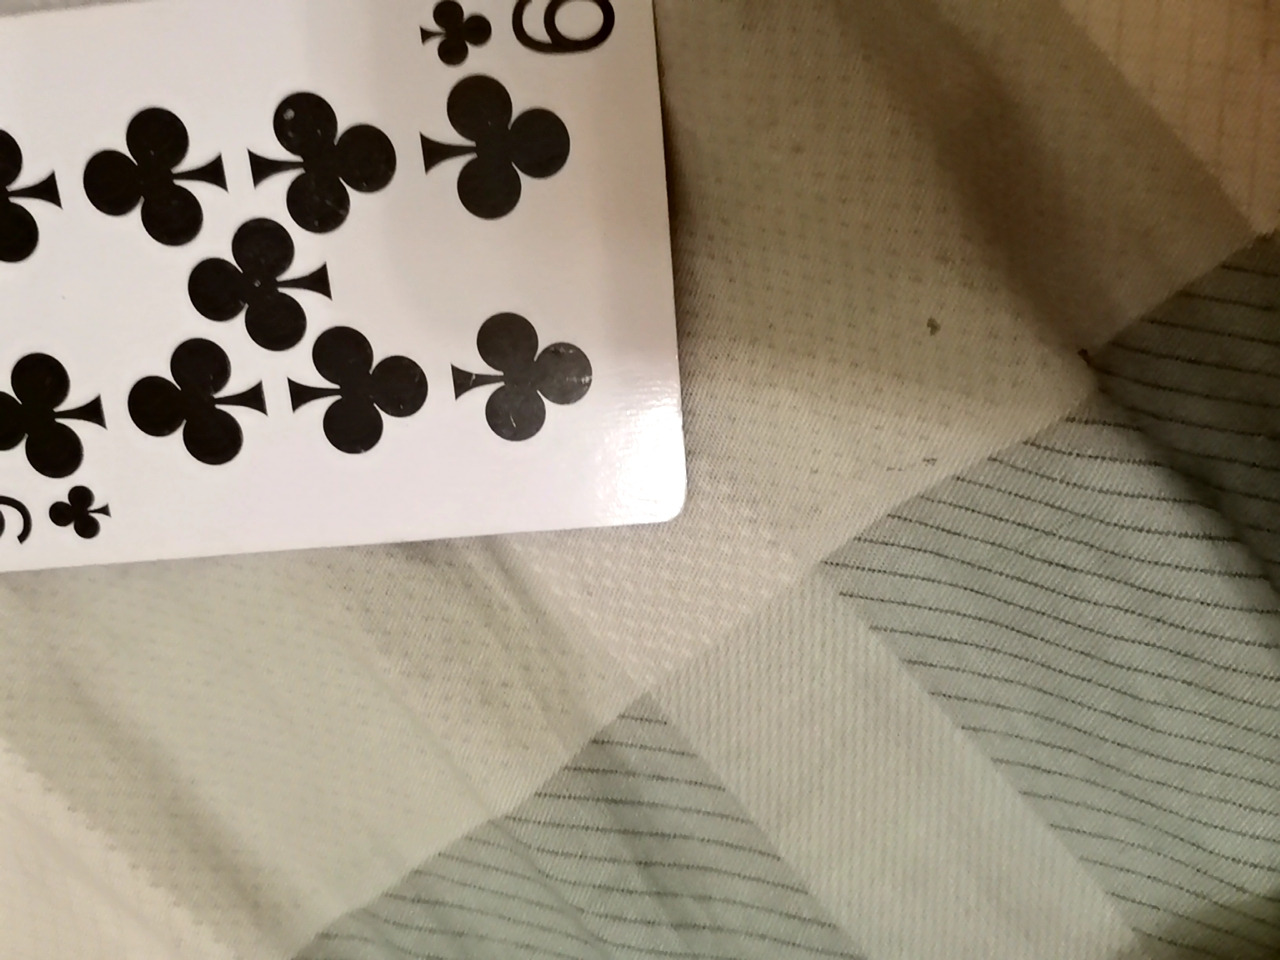mh 9: (9, 3, 690, 592)
